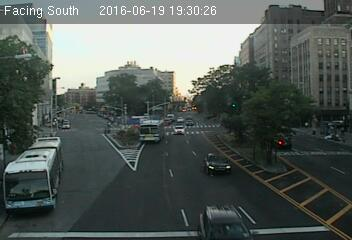neg: (30, 155, 59, 194), (290, 173, 318, 210), (173, 178, 199, 214), (119, 166, 143, 199), (76, 54, 96, 81), (25, 71, 45, 98), (84, 112, 102, 137), (228, 49, 244, 71), (262, 89, 278, 110), (204, 150, 219, 170), (266, 146, 281, 166), (309, 78, 323, 98), (140, 124, 154, 142), (153, 51, 166, 69)
